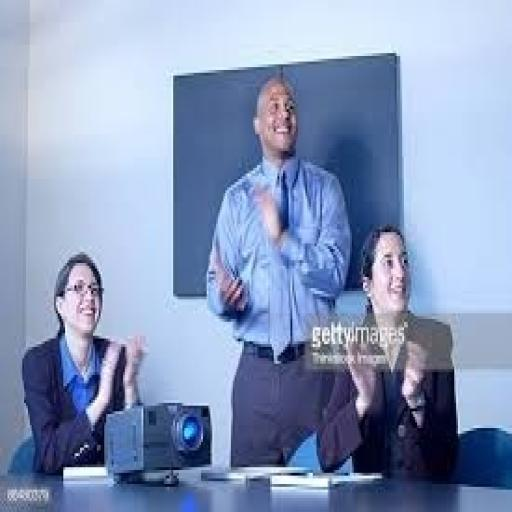clapping: (206, 70, 355, 470), (315, 221, 460, 481), (19, 249, 149, 476)
